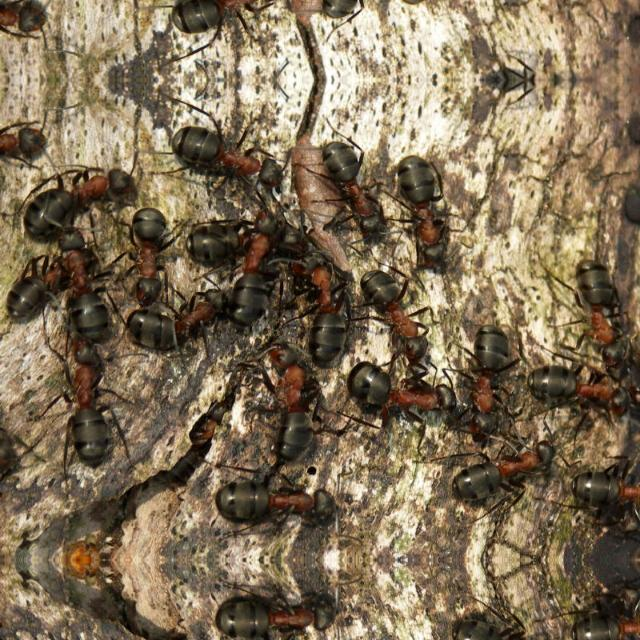Formica: (0, 142, 164, 245), (374, 138, 476, 280), (38, 329, 134, 471), (248, 320, 332, 474), (436, 426, 562, 520), (303, 116, 403, 232), (168, 111, 308, 192), (347, 340, 463, 430), (557, 235, 639, 362), (220, 455, 352, 529), (464, 304, 530, 444), (117, 182, 189, 310), (360, 256, 440, 370), (115, 280, 235, 354), (290, 248, 360, 366), (523, 347, 639, 418), (48, 228, 120, 342), (230, 198, 292, 328), (166, 0, 308, 48), (218, 590, 352, 640), (565, 444, 639, 530), (3, 232, 65, 322), (0, 94, 82, 162), (0, 0, 82, 66), (436, 598, 560, 640), (303, 0, 403, 42), (565, 590, 639, 640), (185, 210, 255, 253)
